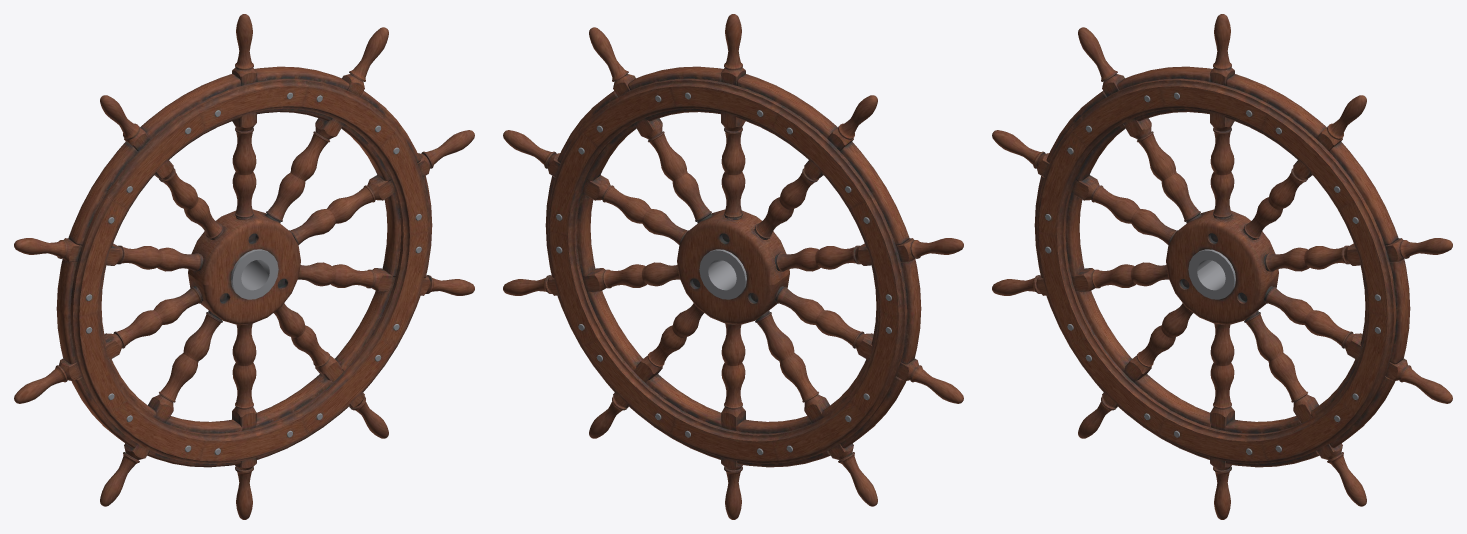
3 views of the same model, side by side, from view 1: azimuth 30°, elevation 25°; view 2: azimuth 150°, elevation 25°; view 3: azimuth 330°, elevation 25° (orthographic).
Parts seen in each view (by area): view 1: GO_Node_05, GO_Node_03, GO_Node_01, GO_Node_02, GO_Node_00, GO_Node_04; view 2: GO_Node_05, GO_Node_03, GO_Node_01, GO_Node_02, GO_Node_00, GO_Node_04; view 3: GO_Node_01, GO_Node_03, GO_Node_05, GO_Node_02, GO_Node_00, GO_Node_04.
Part boxes in pixels (<box>): GO_Node_05: <box>14,95,247,316</box>; GO_Node_03: <box>100,273,329,519</box>; GO_Node_01: <box>257,27,474,275</box>; GO_Node_02: <box>242,241,474,438</box>; GO_Node_00: <box>174,14,328,263</box>; GO_Node_04: <box>14,273,243,433</box>; GO_Node_05: <box>725,95,963,316</box>; GO_Node_03: <box>648,273,877,519</box>; GO_Node_01: <box>503,27,723,263</box>; GO_Node_02: <box>503,243,735,438</box>; GO_Node_00: <box>649,14,804,260</box>; GO_Node_04: <box>732,273,963,434</box>; GO_Node_01: <box>1217,95,1452,339</box>; GO_Node_03: <box>1078,269,1298,519</box>; GO_Node_05: <box>992,27,1212,271</box>; GO_Node_02: <box>1218,271,1452,506</box>; GO_Node_00: <box>1147,14,1304,262</box>; GO_Node_04: <box>992,225,1222,367</box>.
Size of the model in its own units: 1862 by 1955 by 155.
